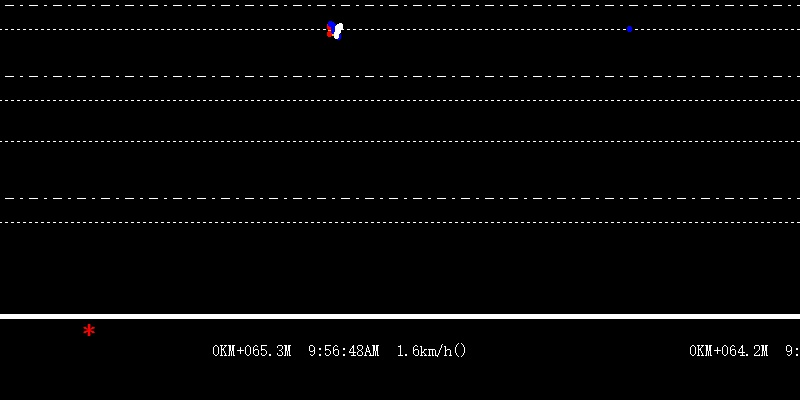star: (80, 321, 97, 339)
